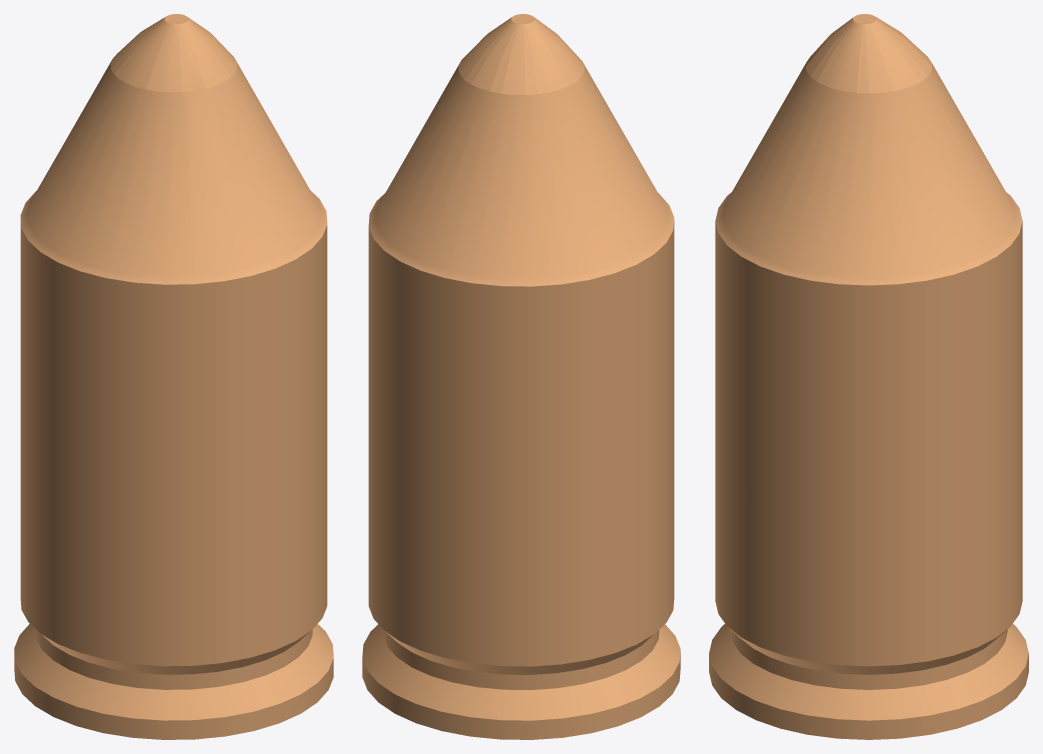
The model's file is BULLET.fbx.
The picture shows the model from 3 angles, left to right: view 1: azimuth 30°, elevation 25°; view 2: azimuth 150°, elevation 25°; view 3: azimuth 270°, elevation 25°; orthographic projection.
Visible parts, largest first — view 1: Cube; view 2: Cube; view 3: Cube.
Part boxes in pixels (x1,y1,x2,y2): Cube: [14, 14, 333, 739]; Cube: [362, 14, 680, 739]; Cube: [709, 14, 1028, 739].
Size of the model in its own units: 80.34 by 181 by 80.34.
